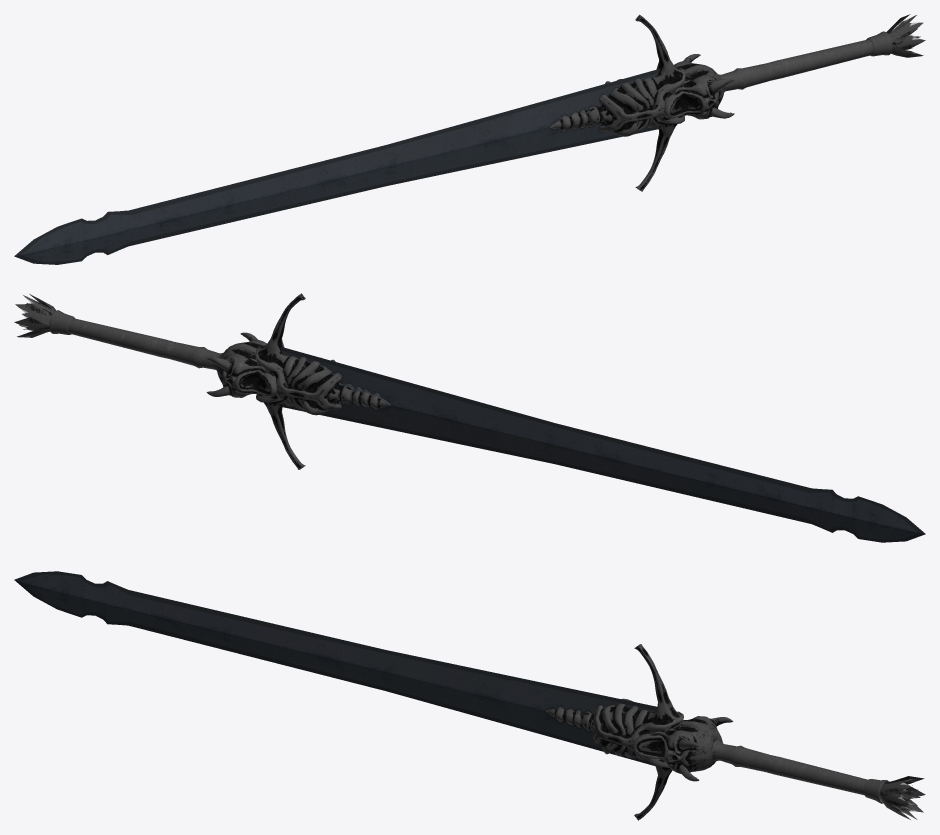
Rendered from devil_may_cry__rebellion.fbx.
3 renders of one model, top to bottom at view 1: azimuth 30°, elevation 25°; view 2: azimuth 150°, elevation 25°; view 3: azimuth 330°, elevation 25°, orthographic.
Parts seen in each view (by area): view 1: obj1; view 2: obj1; view 3: obj1.
Part boxes in pixels (bbox=[...]): obj1: bbox=[14, 14, 925, 264]; obj1: bbox=[14, 293, 925, 542]; obj1: bbox=[14, 571, 925, 820].
Bounding box in the file's own units: 200 × 36.96 × 14.81.
1 material, 1 textured.
